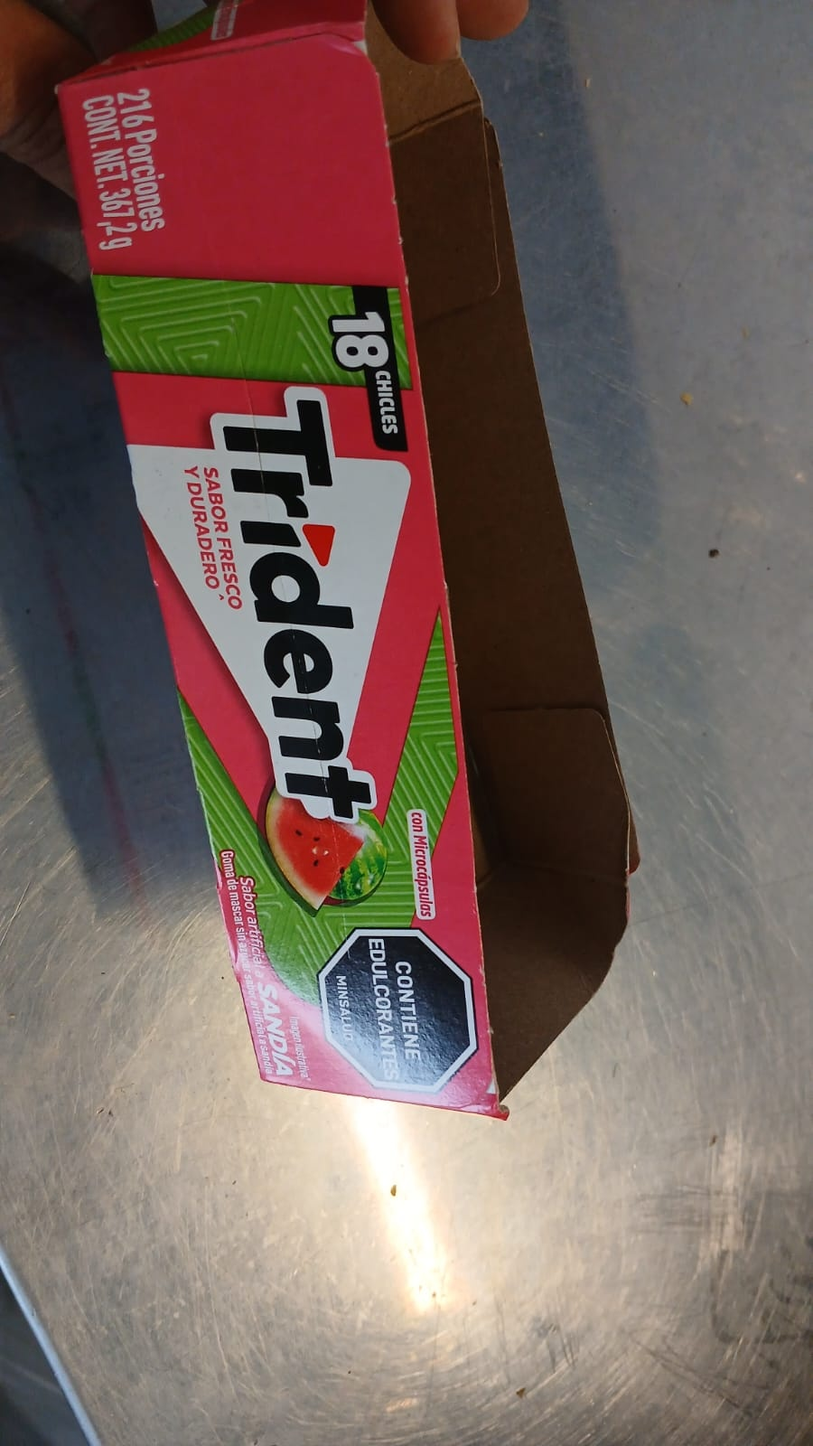Carton: (58, 32, 639, 1119)
